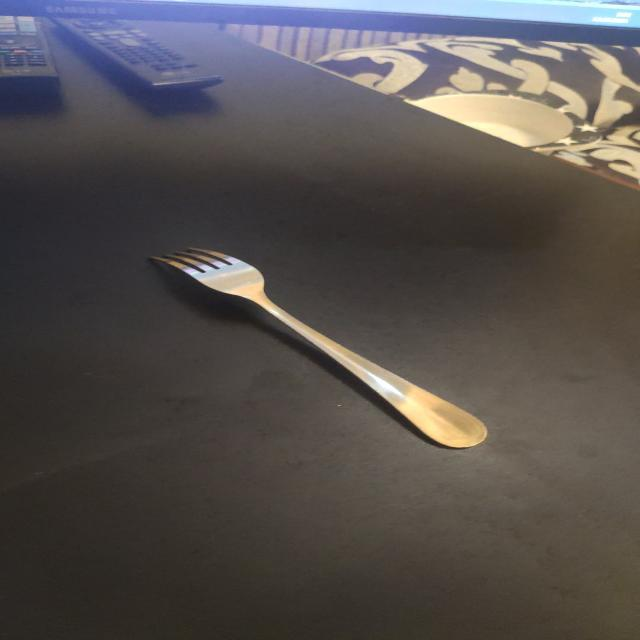plastic utensil: (151, 248, 487, 448)
